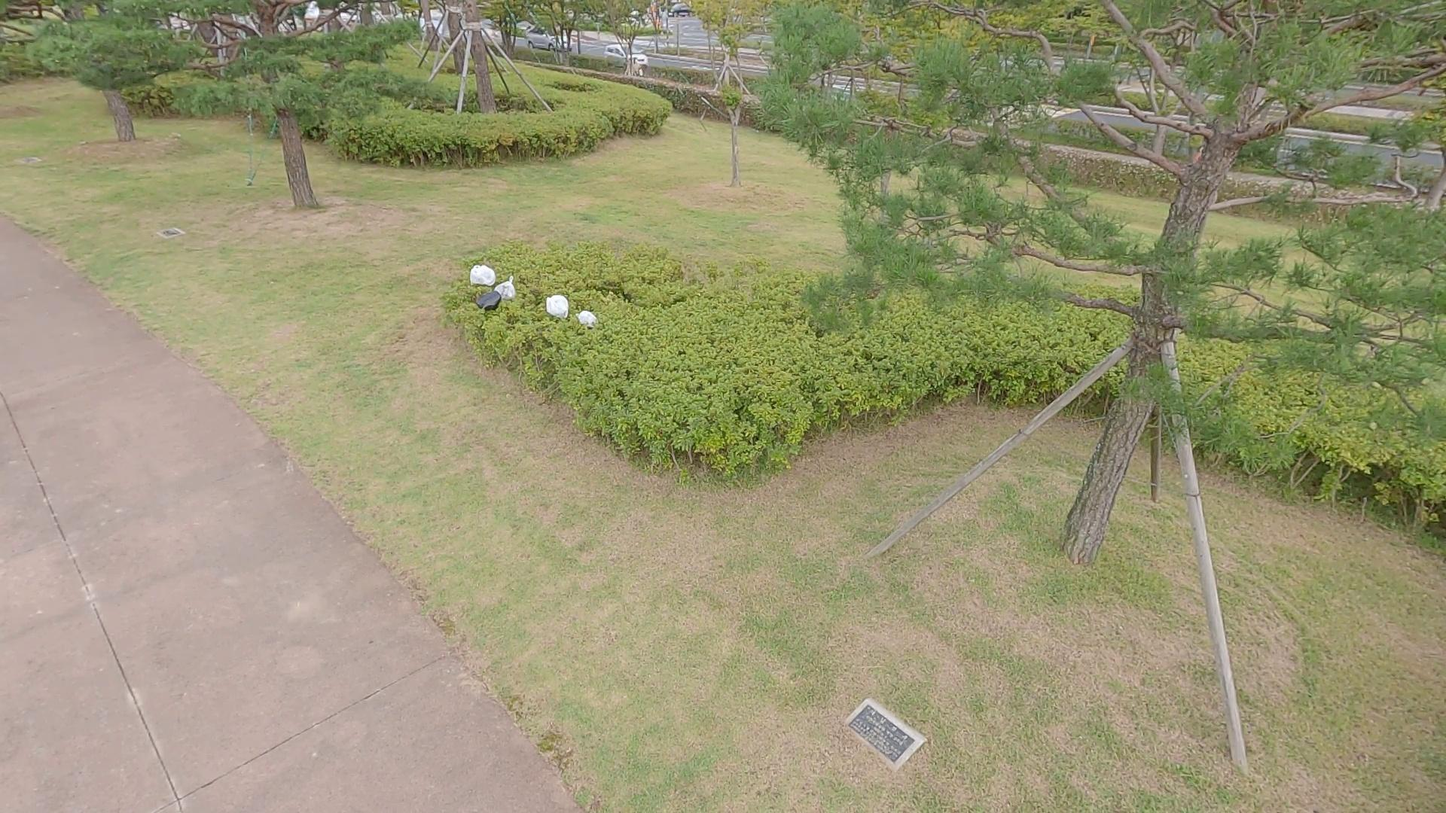trash: (466, 265, 501, 289), (472, 285, 501, 313), (545, 293, 571, 323), (575, 306, 602, 331), (498, 276, 519, 298)
